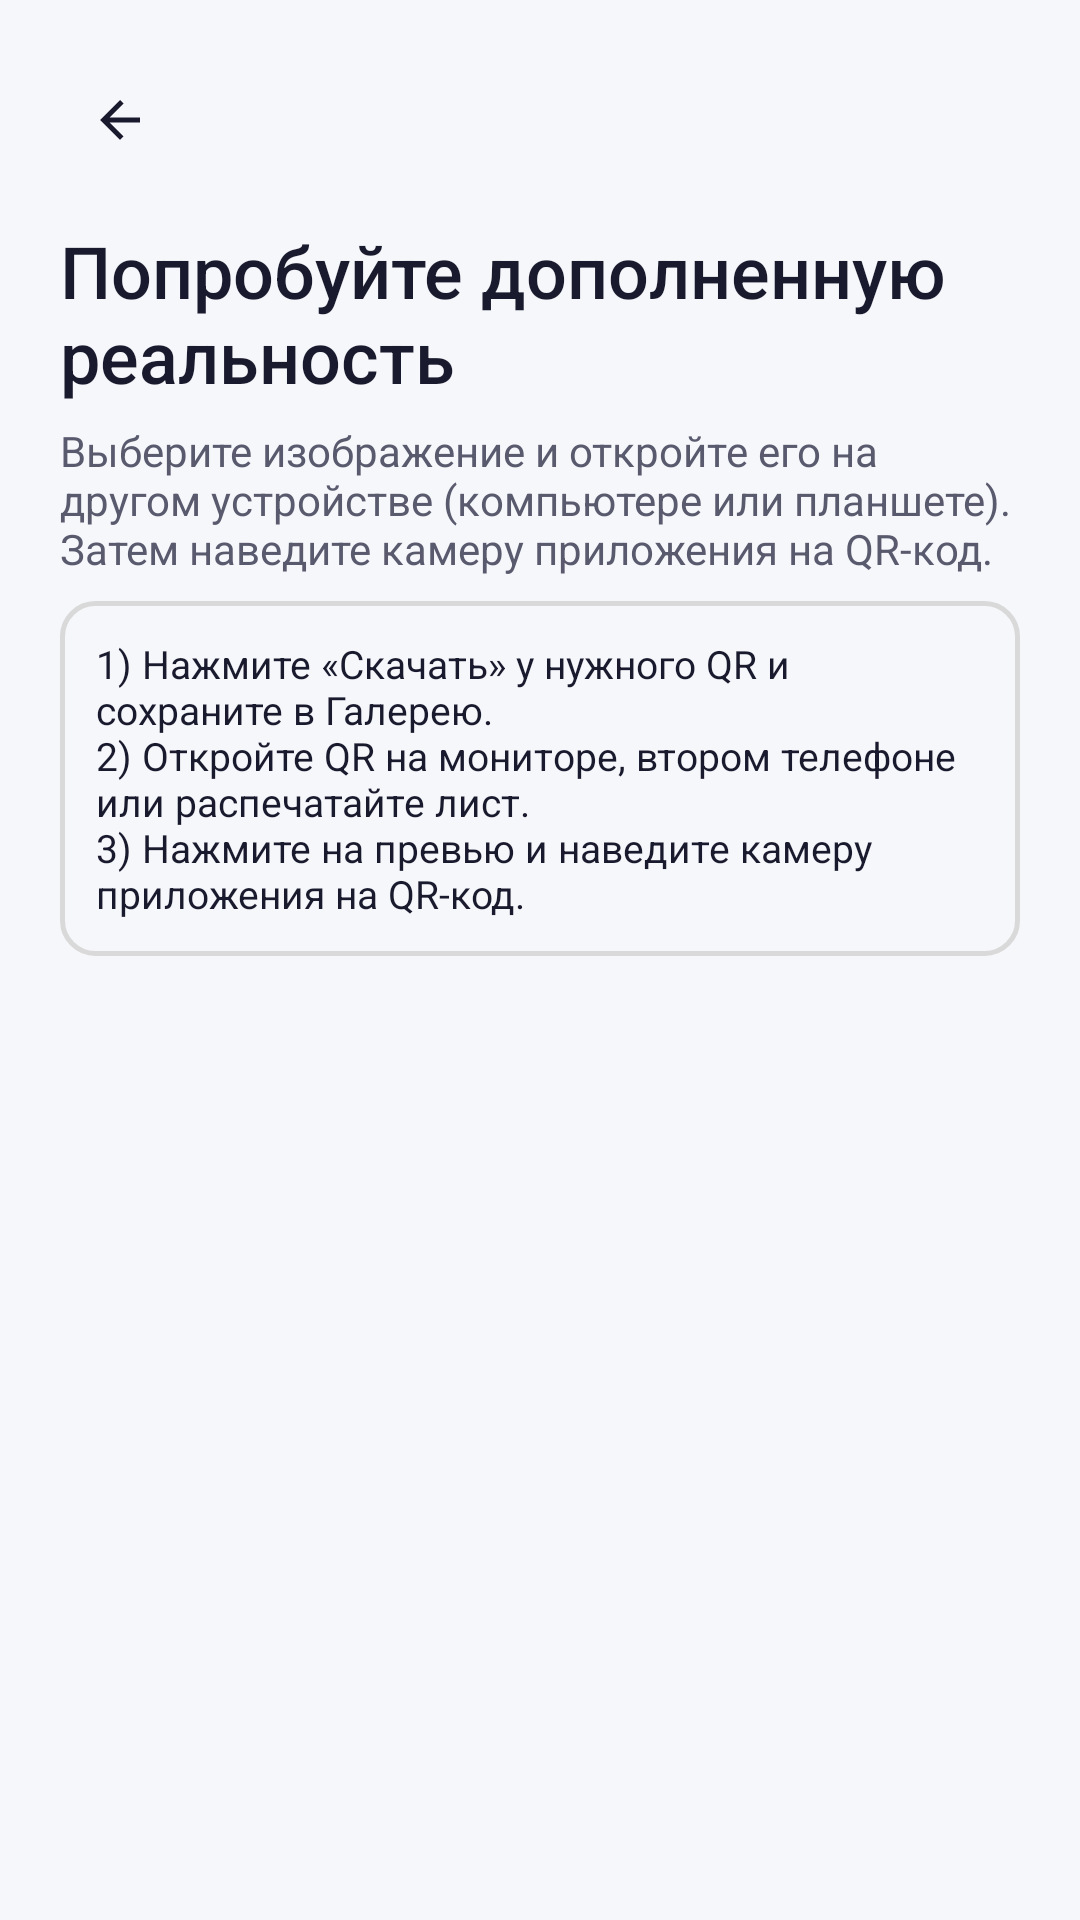

Named icons in this screenshot (1080×1920) and their centers, (x,y):
Закрыть: (120,120)
